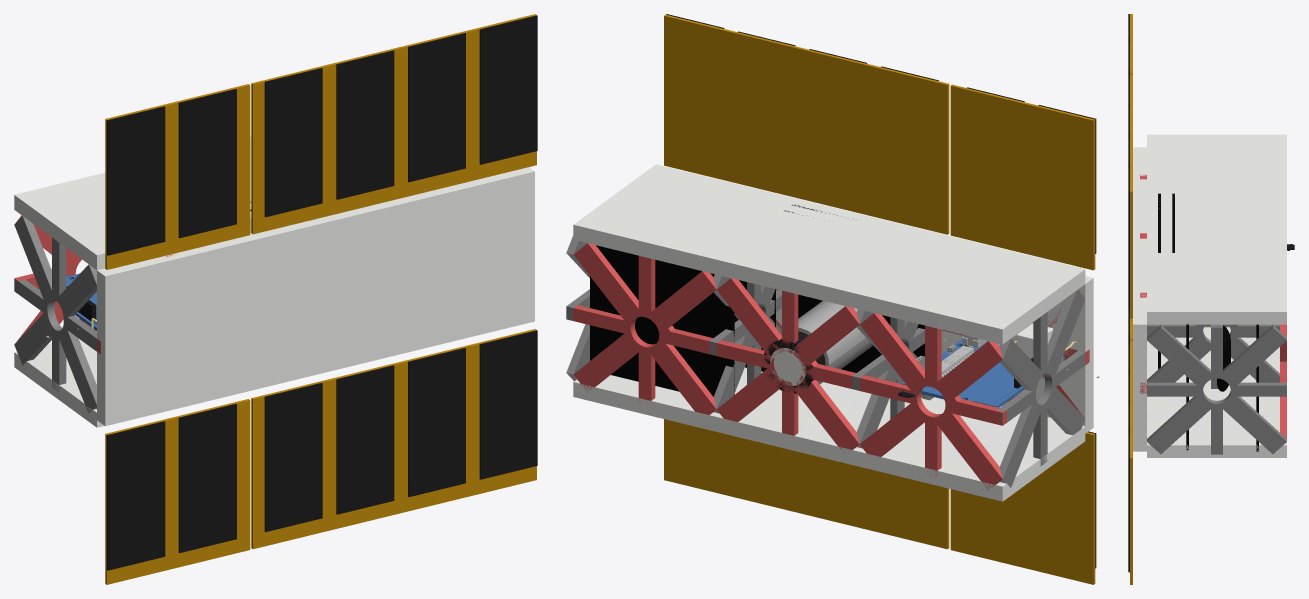
Rendered from 3U-WEATHER-CUBESAT-v1.glb.
3 renders of one model, left to right at view 1: azimuth 30°, elevation 25°; view 2: azimuth 150°, elevation 25°; view 3: azimuth 270°, elevation 25°, orthographic. The views are drawn at different scales.
Parts seen in each view (by area): view 1: empty_122, empty_5, empty_43, empty_29, empty_27, empty_37, empty_26, empty_38, empty_39, empty_25, empty_31, empty_41 (+11 smaller); view 2: empty_123, empty_32, empty_33, empty_35, empty_124, empty_20, empty_14, empty_2, empty_8, empty_21, empty_23, empty_5 (+12 smaller); view 3: empty_123, empty_16, empty_124, empty_122, empty_10, empty_19, empty_14, empty_35, empty_23, empty_128, empty_13, empty_31 (+1 smaller).
Boxes of the visible parts, box(x1,y1,x2,y2) form: empty_122: box(97, 167, 534, 426); empty_5: box(14, 216, 96, 413); empty_43: box(479, 15, 537, 164); empty_29: box(336, 365, 394, 514); empty_27: box(264, 383, 322, 532); empty_37: box(107, 106, 165, 255); empty_26: box(178, 404, 236, 553); empty_38: box(178, 89, 236, 238); empty_39: box(264, 68, 322, 217); empty_25: box(107, 421, 165, 570); empty_31: box(479, 330, 537, 479); empty_41: box(336, 50, 394, 199); empty_123: box(573, 164, 1085, 344); empty_32: box(950, 84, 1095, 270); empty_33: box(804, 49, 949, 234); empty_35: box(664, 14, 808, 200); empty_124: box(573, 367, 1085, 501); empty_20: box(950, 432, 1095, 584); empty_14: box(573, 243, 716, 414); empty_2: box(859, 313, 1006, 490); empty_8: box(716, 278, 859, 452); empty_21: box(804, 454, 949, 549); empty_23: box(664, 419, 806, 514); empty_5: box(996, 290, 1085, 487); empty_123: box(1147, 134, 1286, 324); empty_16: box(1147, 324, 1286, 454); empty_124: box(1147, 327, 1286, 457); empty_122: box(1133, 147, 1146, 451); empty_10: box(1147, 324, 1279, 388); empty_19: box(1147, 389, 1279, 436); empty_14: box(1280, 324, 1286, 438); empty_35: box(1130, 133, 1132, 318); empty_23: box(1130, 400, 1132, 584); empty_128: box(1217, 325, 1230, 391); empty_13: box(1147, 337, 1279, 377); empty_31: box(1128, 434, 1129, 572).
Size of the model in its own units: 32.72 by 31 by 11.86.
